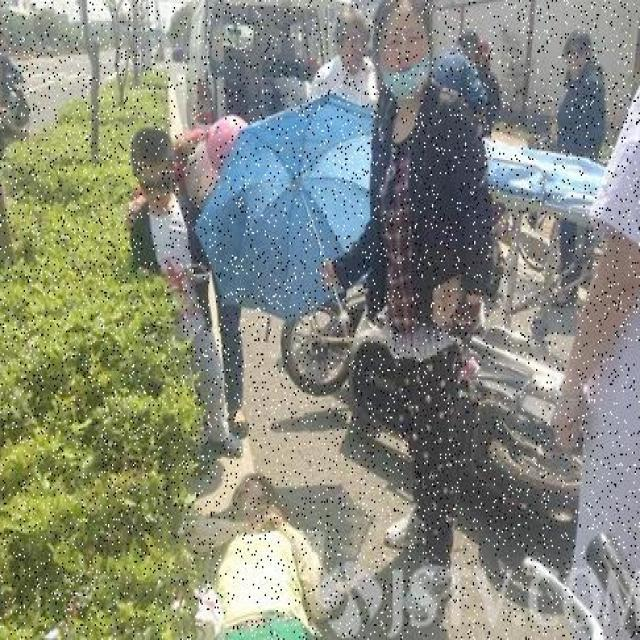fall: (183, 468, 331, 638)
